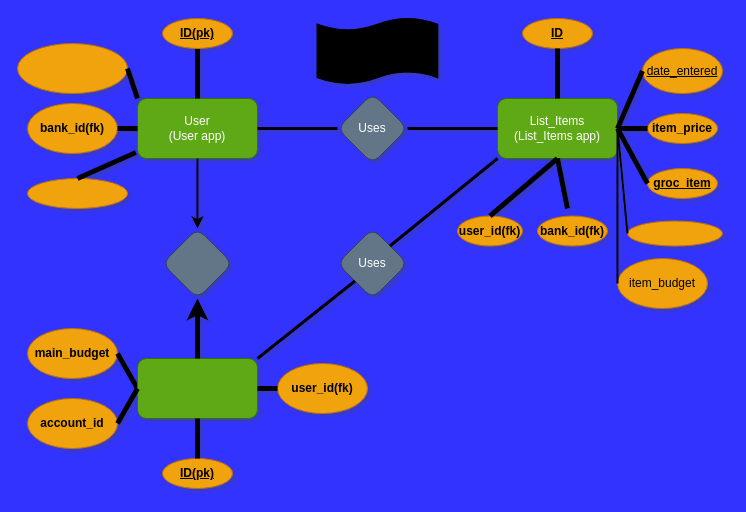
Image size: 746x512. Some labels were removed from this diagram. Each missing label, with the centre of its shape:
Bank_account (Bank app): [197,388]
Belongs to: [197,263]
Future ERD Grocery: [377,50]
notes: [674,233]
password: [72,68]
username: [77,193]
